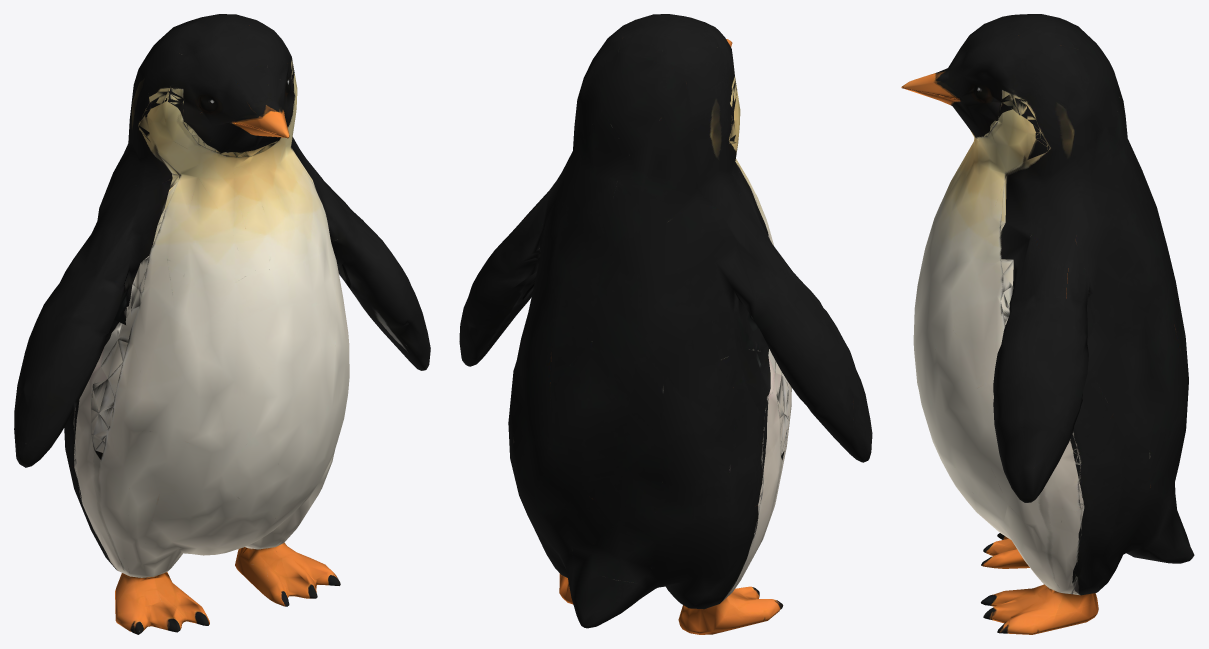
The model's file is penguin-arms-crease.glb.
3 renders of one model, left to right at view 1: azimuth 30°, elevation 25°; view 2: azimuth 150°, elevation 25°; view 3: azimuth 270°, elevation 25°, orthographic. The views are drawn at different scales.
Parts seen in each view (by area): view 1: pgsrc_mesh0; view 2: pgsrc_mesh0; view 3: pgsrc_mesh0.
Boxes of the visible parts, x1=… form: pgsrc_mesh0: x1=14, y1=14, x2=430, y2=634; pgsrc_mesh0: x1=459, y1=14, x2=872, y2=634; pgsrc_mesh0: x1=901, y1=14, x2=1194, y2=634.
Bounding box in the file's own units: 1.41 × 1.9 × 0.8937.
1 material, 1 textured.
